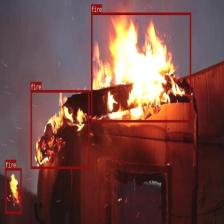fire: (91, 12, 190, 122), (30, 90, 89, 168), (5, 168, 21, 213)
